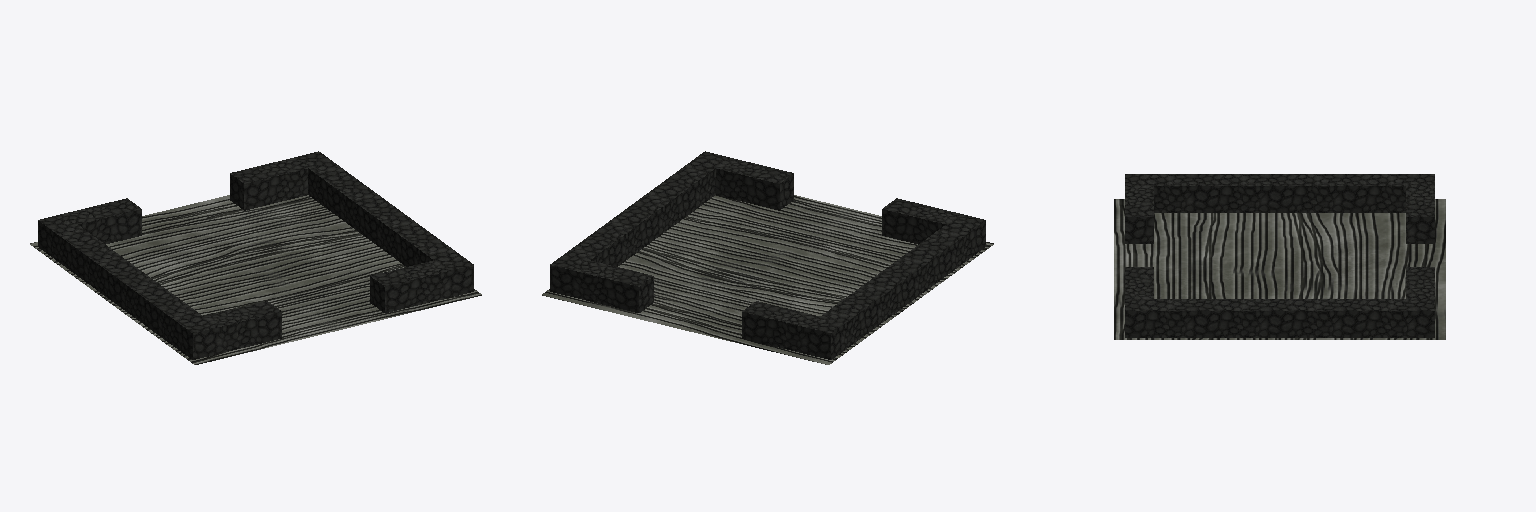
3 renders of one model, left to right at view 1: azimuth 30°, elevation 25°; view 2: azimuth 150°, elevation 25°; view 3: azimuth 270°, elevation 25°, orthographic.
Parts seen in each view (by area): view 1: Plane, Cube_Cube.001; view 2: Plane, Cube_Cube.001; view 3: Cube_Cube.001, Plane.
Part boxes in pixels (x1,y1,x2,y2): Plane: (30,195,481,364); Cube_Cube.001: (38,151,473,359); Plane: (542,195,993,364); Cube_Cube.001: (550,151,985,359); Cube_Cube.001: (1125,174,1434,337); Plane: (1114,199,1445,339).
Bounding box in the file's own units: 9 × 0.8099 × 9.
2 materials, 2 textured.